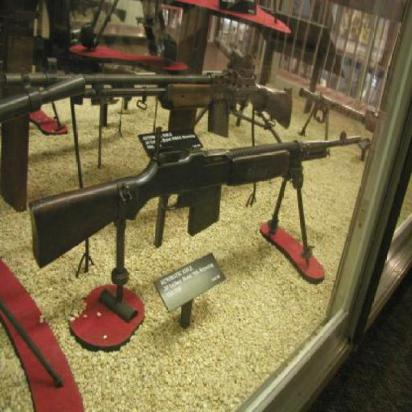Gun: (28, 134, 366, 264)
